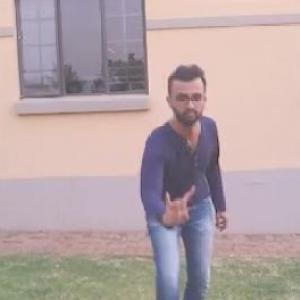takeoff-hand: (159, 179, 197, 234)
